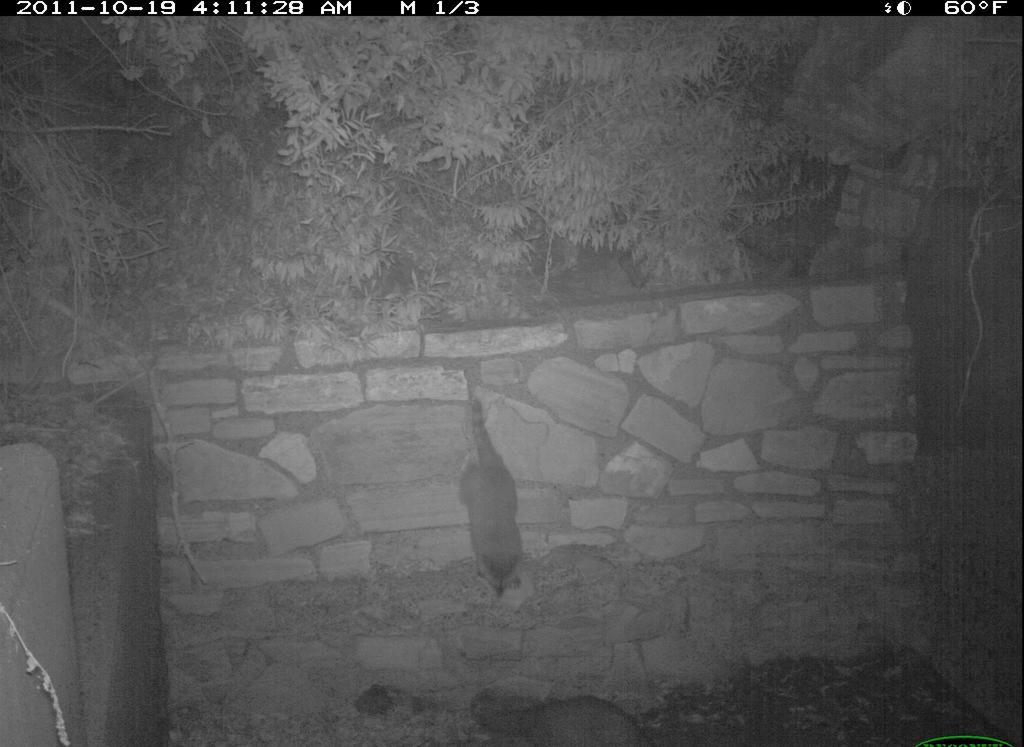raccoon: (455, 383, 535, 631)
